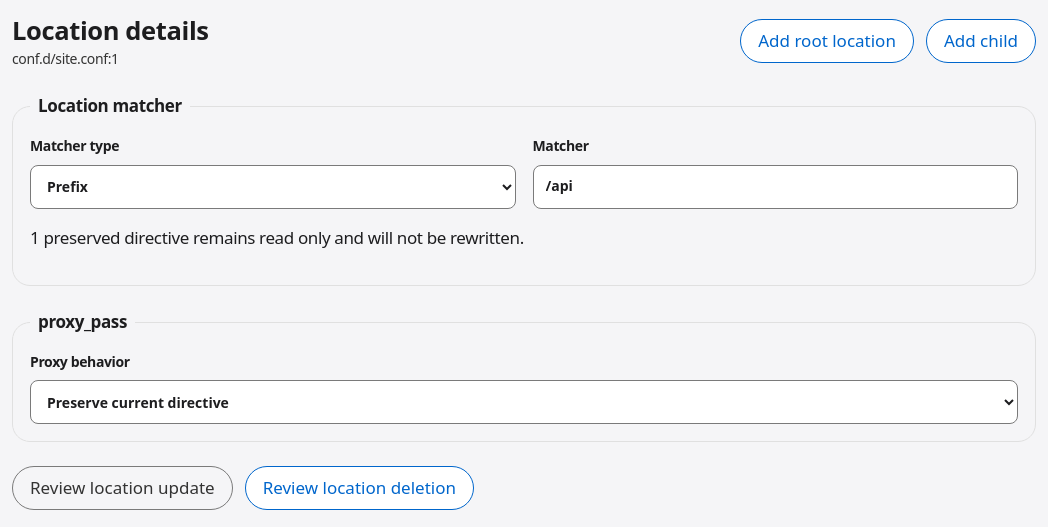
Test: LocationEditor › keeps dirty matcher values until they are explicitly reset
This screenshot has width=1048, height=527.
Step 1. Replace the text in the field named "location-matcher" with "/service" → point(775, 187), box left=532, top=165, right=1018, bottom=209
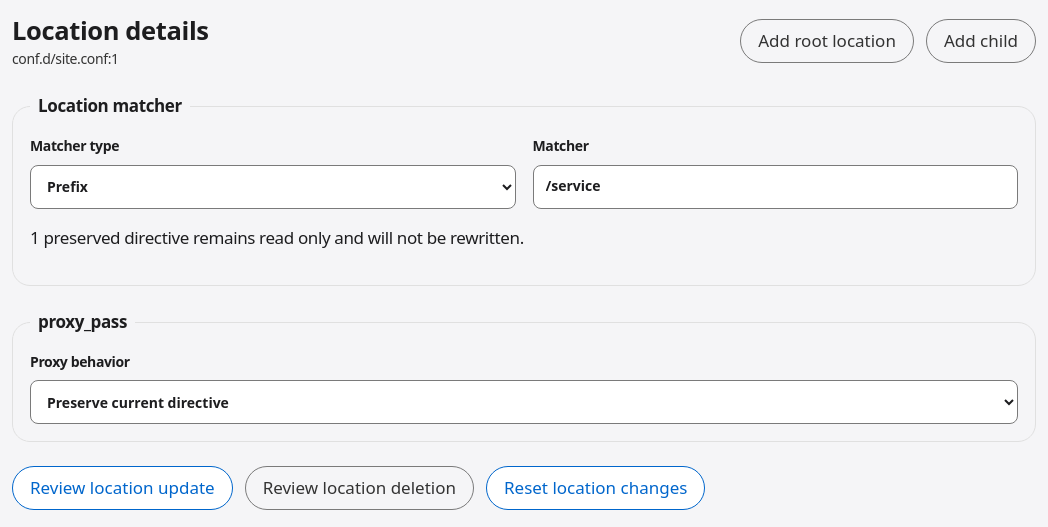
Expected: the button "Add root location" is disabled, left=740, top=19, right=914, bottom=63
Expected: the button "Add child" is disabled, left=926, top=19, right=1036, bottom=63
Expected: the button "Review location deletion" is disabled, left=245, top=466, right=474, bottom=510
Step 2. Click the button "Reset location changes" → point(596, 488), box left=486, top=466, right=706, bottom=510
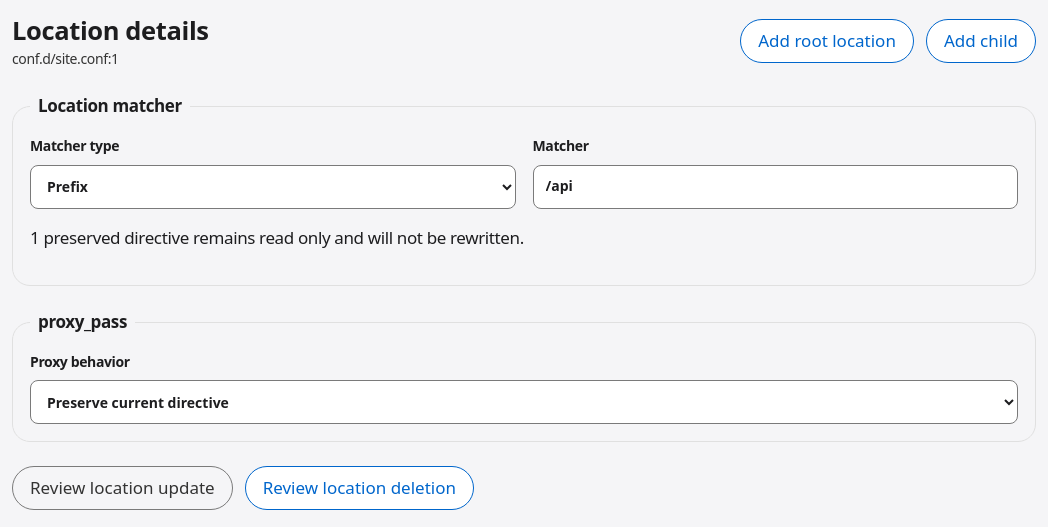
Expected: the field named "location-matcher" holds "/api", left=532, top=165, right=1018, bottom=209
Expected: the button "Add root location" is enabled, left=740, top=19, right=914, bottom=63
